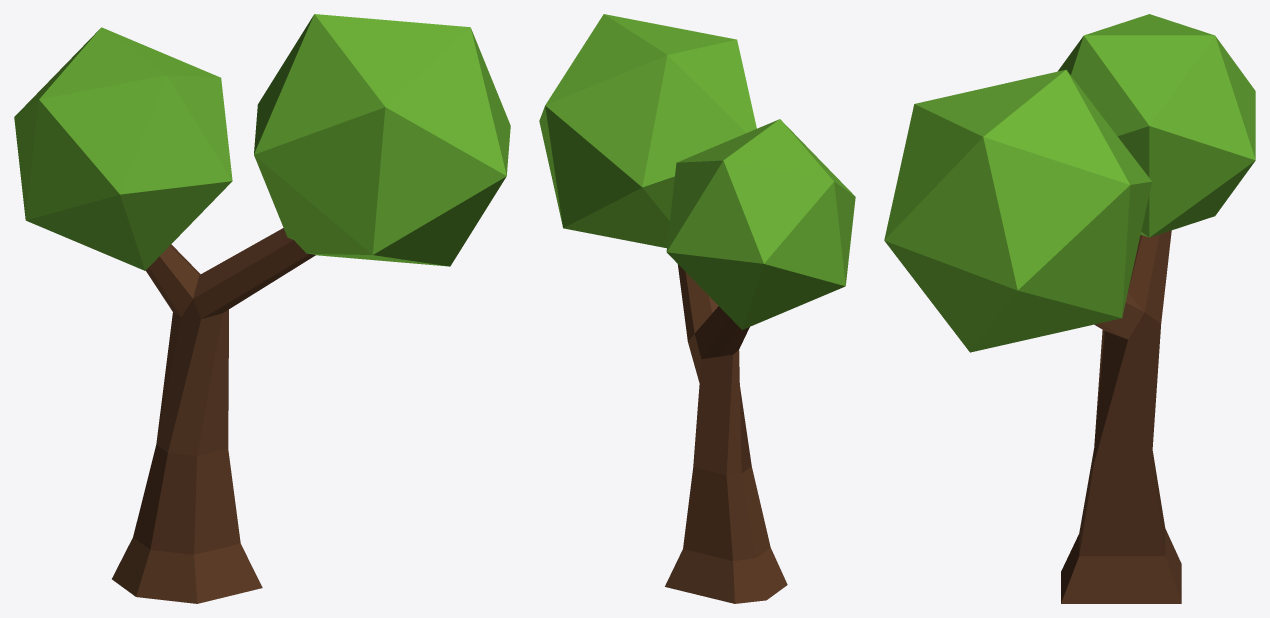
Rendered from Tree5.glb.
3 renders of one model, left to right at view 1: azimuth 30°, elevation 25°; view 2: azimuth 150°, elevation 25°; view 3: azimuth 270°, elevation 25°, orthographic. The views are drawn at different scales.
Visible parts, largest first — view 1: Tree5; view 2: Tree5; view 3: Tree5.
Boxes of the visible parts, left/top/right/bottom form: Tree5: left=14, top=14, right=510, bottom=603; Tree5: left=539, top=14, right=855, bottom=603; Tree5: left=884, top=14, right=1255, bottom=603.
Size of the model in its own units: 3.64 by 4.63 by 2.78.
